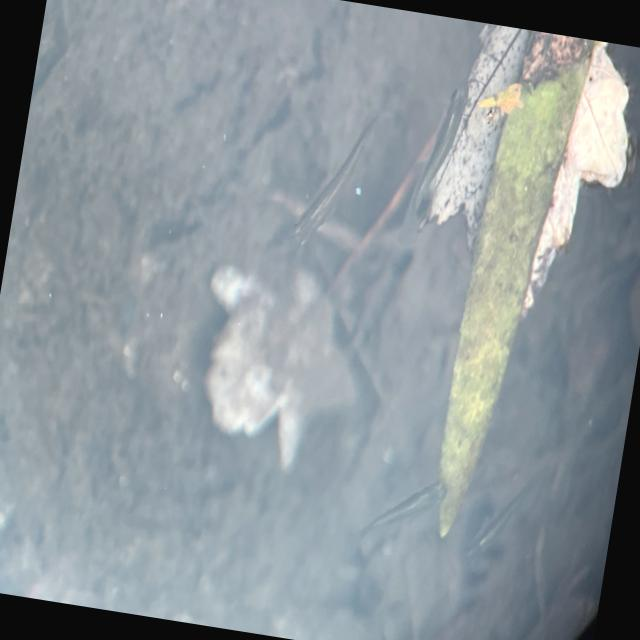Sivrisinek Baligi: (289, 92, 388, 268), (463, 452, 548, 568), (367, 459, 458, 547)
